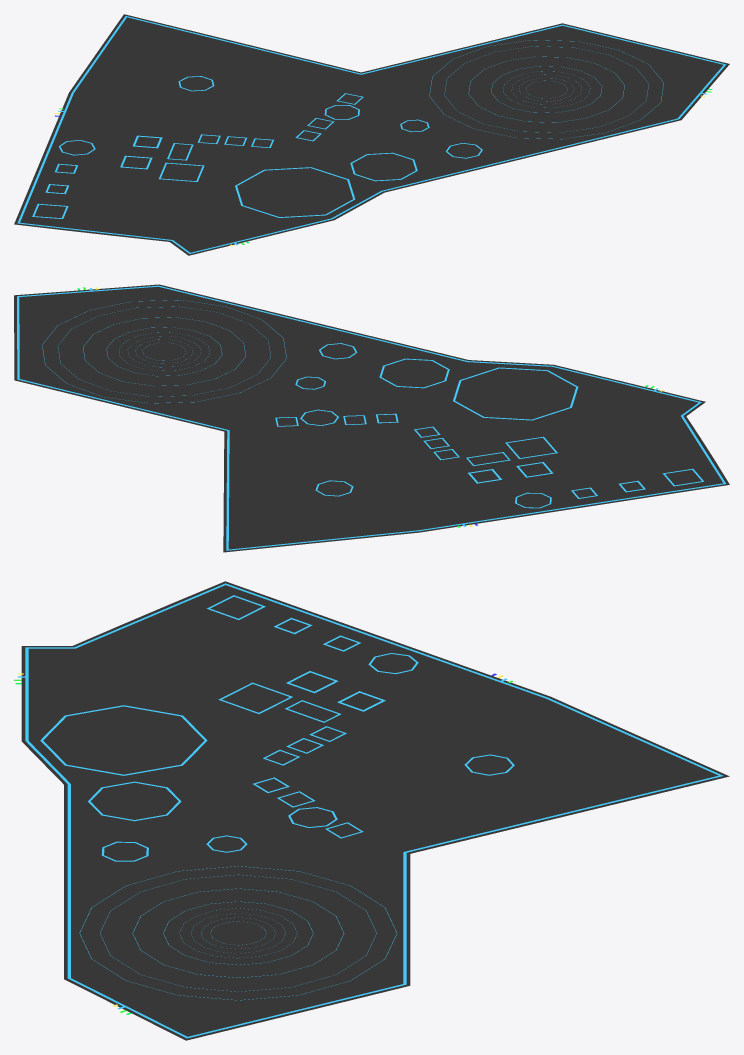
The model's file is Chao_ExatasEdaTerra_PrimeiroAndar.gltf.
3 views of the same model, one above another, from view 1: azimuth 30°, elevation 25°; view 2: azimuth 150°, elevation 25°; view 3: azimuth 270°, elevation 25° (orthographic). The views are drawn at different scales.
Visible parts, largest first — view 1: Plane.005; view 2: Plane.005; view 3: Plane.005.
Boxes of the visible parts, x1,y1,x2,y2 form: Plane.005: (14, 14, 729, 255); Plane.005: (14, 284, 729, 552); Plane.005: (14, 581, 729, 1040).
Size of the model in its own units: 69.45 by 0.0368 by 45.73.
6 materials, 1 textured.
